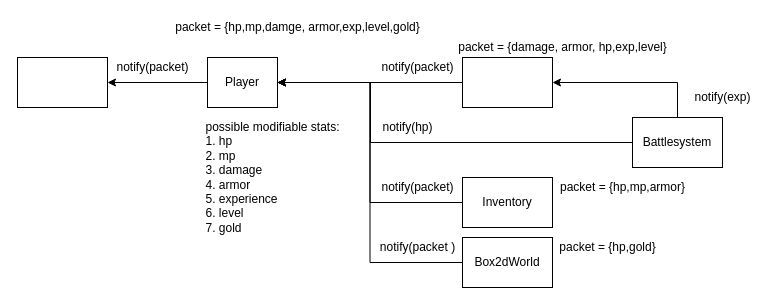
The diagram is 775 pixels wide and 305 high, and some of its shapes have lost their labels. The shapes that lost their labels are listed below. From the top down, each one's centre as x and y in pixels, then its label:
point 62,82: StatusUI
point 507,82: LelvelingUpSys
